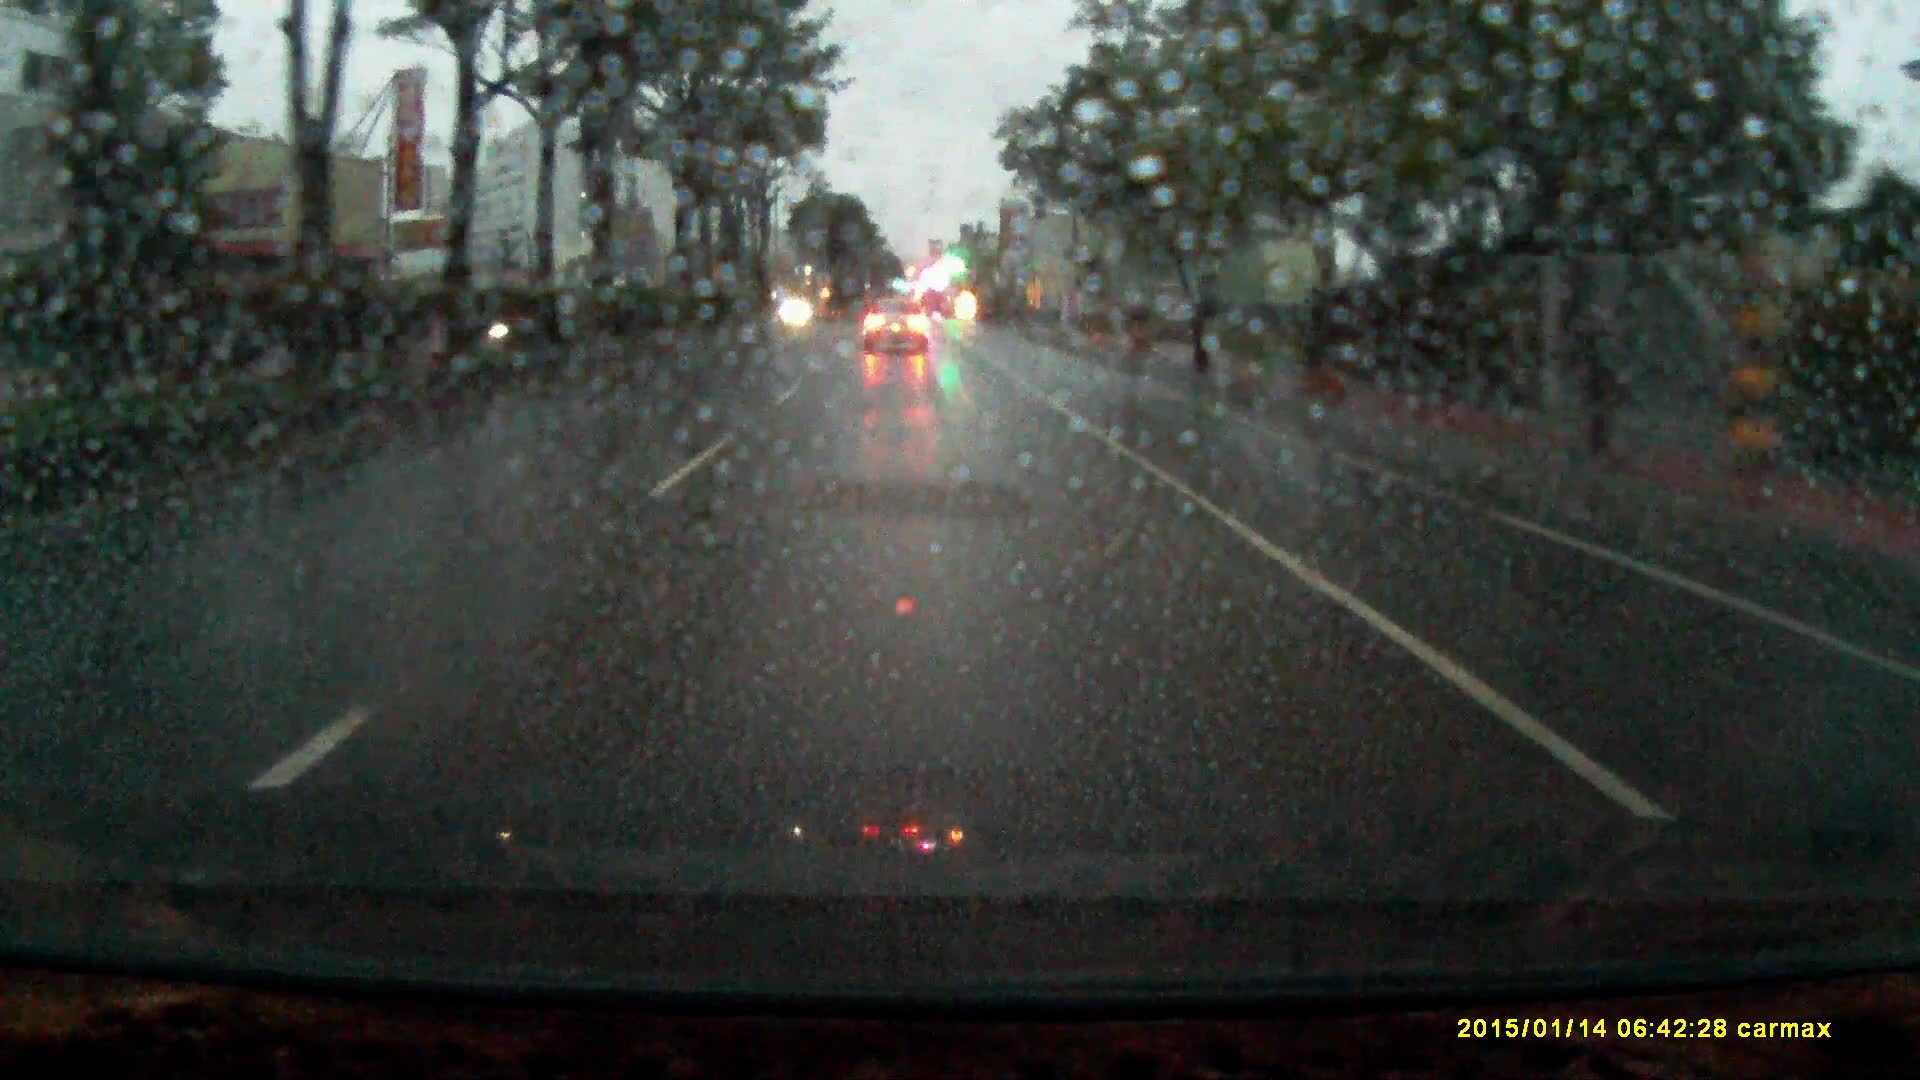vehicle: (862, 299, 932, 359)
